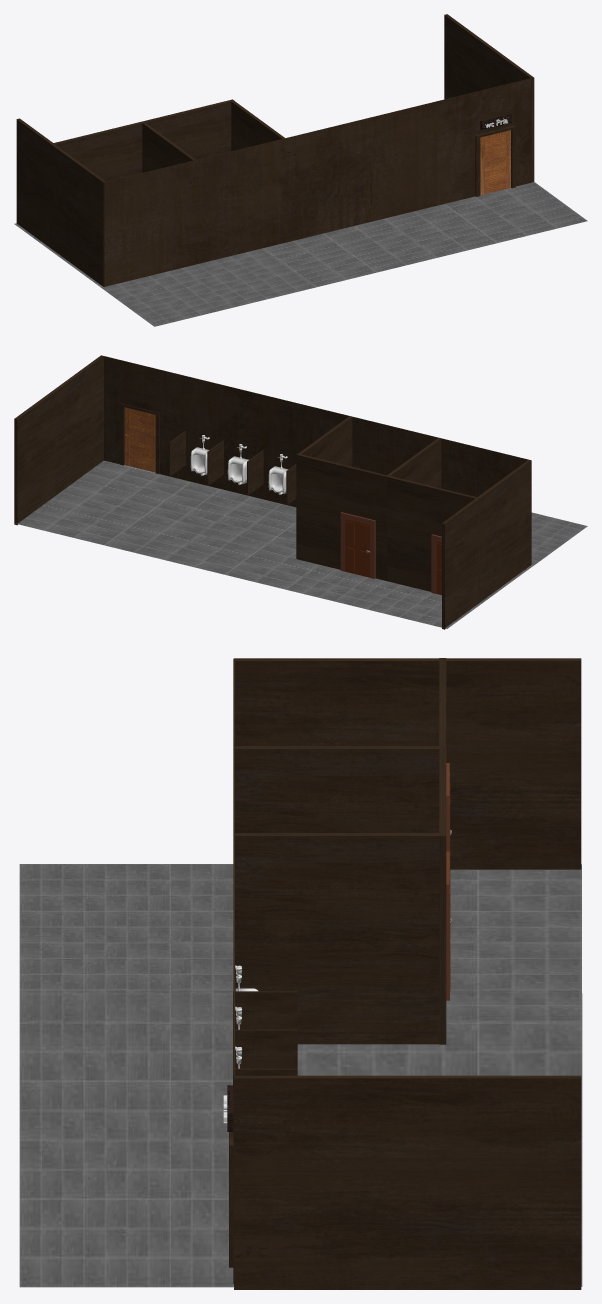
The model's file is WCcowo.fbx.
The picture shows the model from 3 angles, top to bottom: view 1: azimuth 30°, elevation 25°; view 2: azimuth 150°, elevation 25°; view 3: azimuth 270°, elevation 25°; orthographic projection. The views are drawn at different scales.
Visible parts, largest first — view 1: Cube.031, Plane.011, Cube.018, Plane.009, Cube.032, Cube.008, Cube.003, Door.004, Cube.006, Cube.004, Door_Frame.004; view 2: Cube.031, Plane.010, Cube.032, Cube.018, Cube.003, Cube.008, Plane.008, Door.004, Plane.009, Cube.004, Cube.006, chukattu (+11 smaller); view 3: Cube.032, Plane.011, Cube.018, Cube.004, Plane.009, Plane.008, Cube.006, Plane.010, Cube.001, Cube.007, Cube.003, Cube.031.
Boxes of the visible parts, left/top/right/bottom form: Cube.031: left=104, top=78, right=531, bottom=286; Plane.011: left=262, top=182, right=587, bottom=294; Cube.018: left=16, top=118, right=105, bottom=286; Plane.009: left=101, top=248, right=314, bottom=326; Cube.032: left=444, top=14, right=534, bottom=182; Cube.008: left=50, top=122, right=142, bottom=248; Cube.003: left=141, top=99, right=234, bottom=159; Door.004: left=480, top=130, right=510, bottom=195; Cube.006: left=141, top=122, right=195, bottom=172; Cube.004: left=230, top=99, right=284, bottom=151; Door_Frame.004: left=475, top=125, right=515, bottom=196; Cube.031: left=104, top=356, right=528, bottom=507; Plane.010: left=14, top=460, right=319, bottom=589; Cube.032: left=14, top=355, right=103, bottom=525; Cube.018: left=442, top=460, right=531, bottom=629; Cube.003: left=296, top=453, right=388, bottom=580; Cube.008: left=387, top=476, right=480, bottom=603; Plane.008: left=287, top=565, right=533, bottom=628; Door.004: left=124, top=407, right=155, bottom=472; Plane.009: left=531, top=512, right=587, bottom=565; Cube.004: left=297, top=416, right=352, bottom=466; Cube.006: left=387, top=437, right=441, bottom=488; chukattu: left=340, top=512, right=375, bottom=578; Cube.032: left=234, top=1075, right=581, bottom=1289; Plane.011: left=19, top=993, right=234, bottom=1287; Cube.018: left=234, top=658, right=581, bottom=869; Cube.004: left=234, top=833, right=445, bottom=1044; Plane.009: left=19, top=864, right=233, bottom=1021; Plane.008: left=446, top=864, right=581, bottom=1021; Cube.006: left=234, top=746, right=445, bottom=832; Plane.010: left=297, top=993, right=582, bottom=1286; Cube.001: left=233, top=1029, right=297, bottom=1068; Cube.007: left=233, top=991, right=297, bottom=1029; Cube.003: left=439, top=746, right=446, bottom=1044; Cube.031: left=233, top=658, right=234, bottom=1283.
Size of the model in its own units: 28.81 by 16.19 by 6.71.
9 materials, 4 textured.
